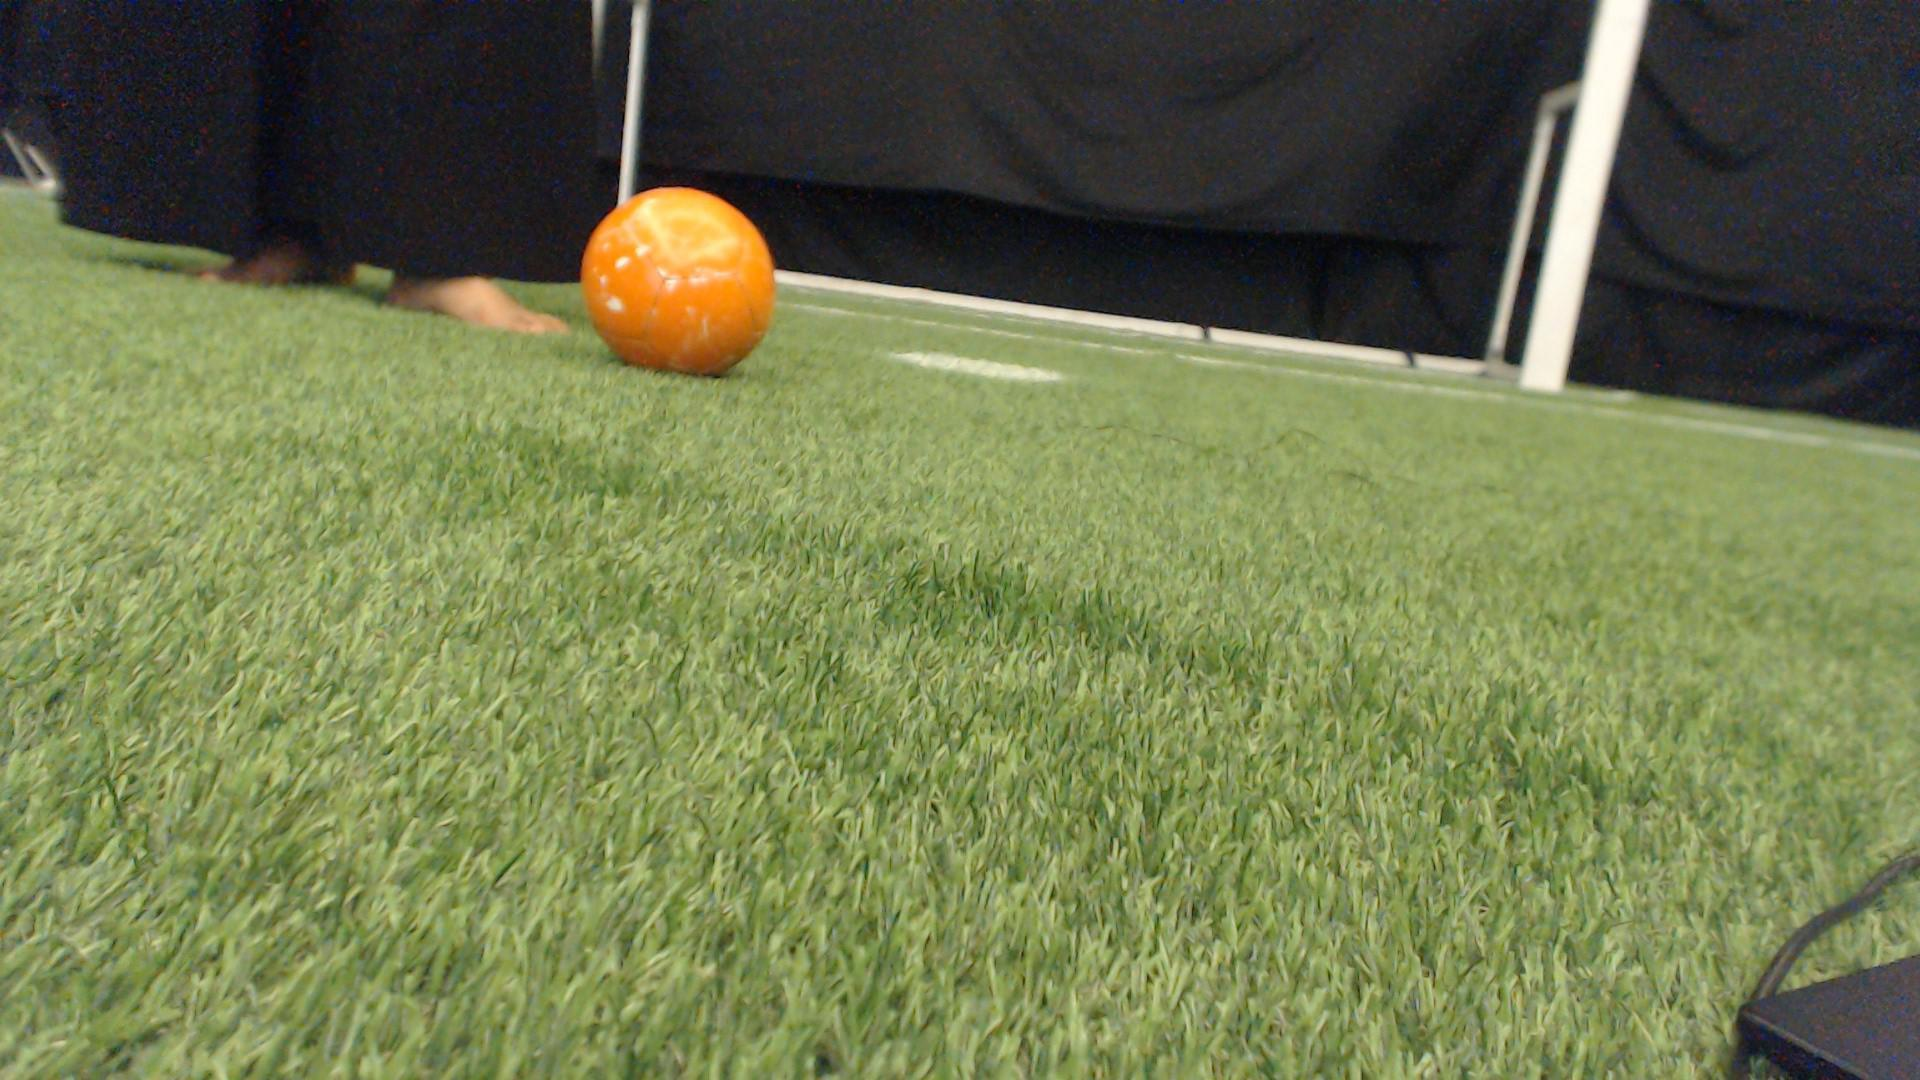bola: (562, 179, 790, 393)
